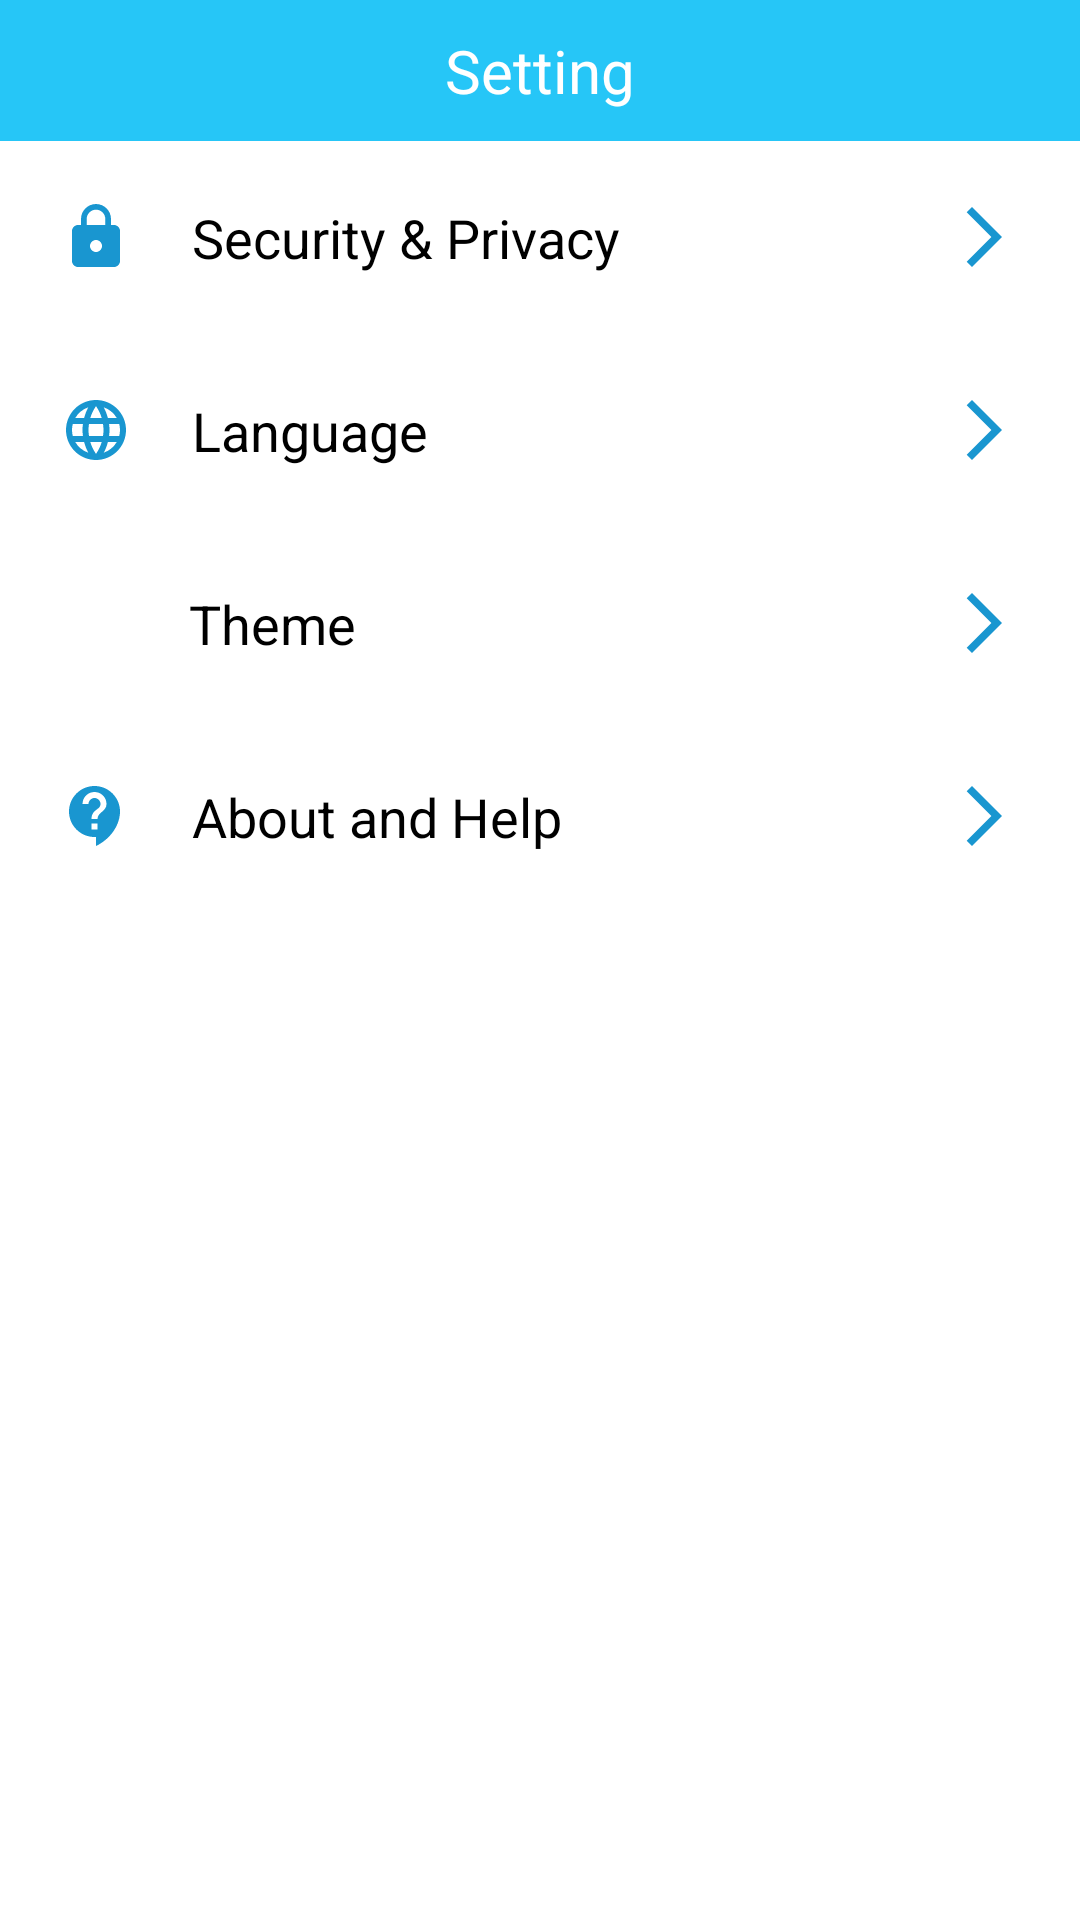

Where to tap for icons on this 1080px×1920px app screen, as (x,y):
arrow forward: (984,237), (984,430), (984,623), (984,816)
contact support: (94,816)
lock: (96,235)
